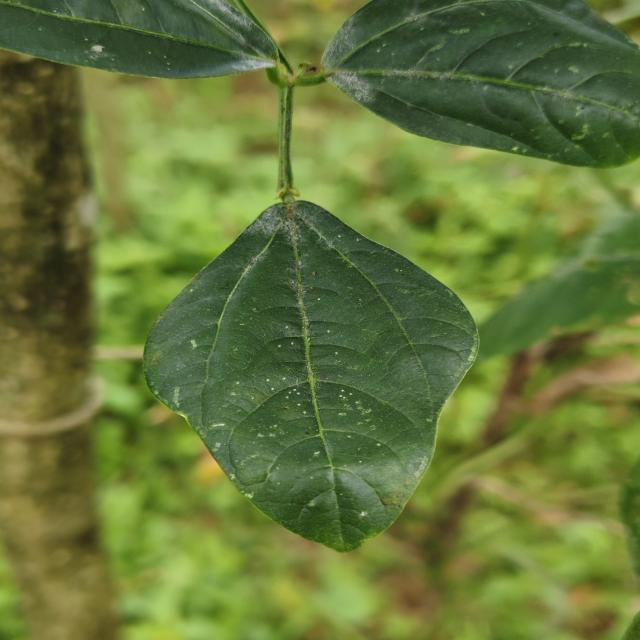sitaw-aphid-high: (143, 192, 478, 552), (309, 0, 640, 168), (0, 0, 292, 78)
